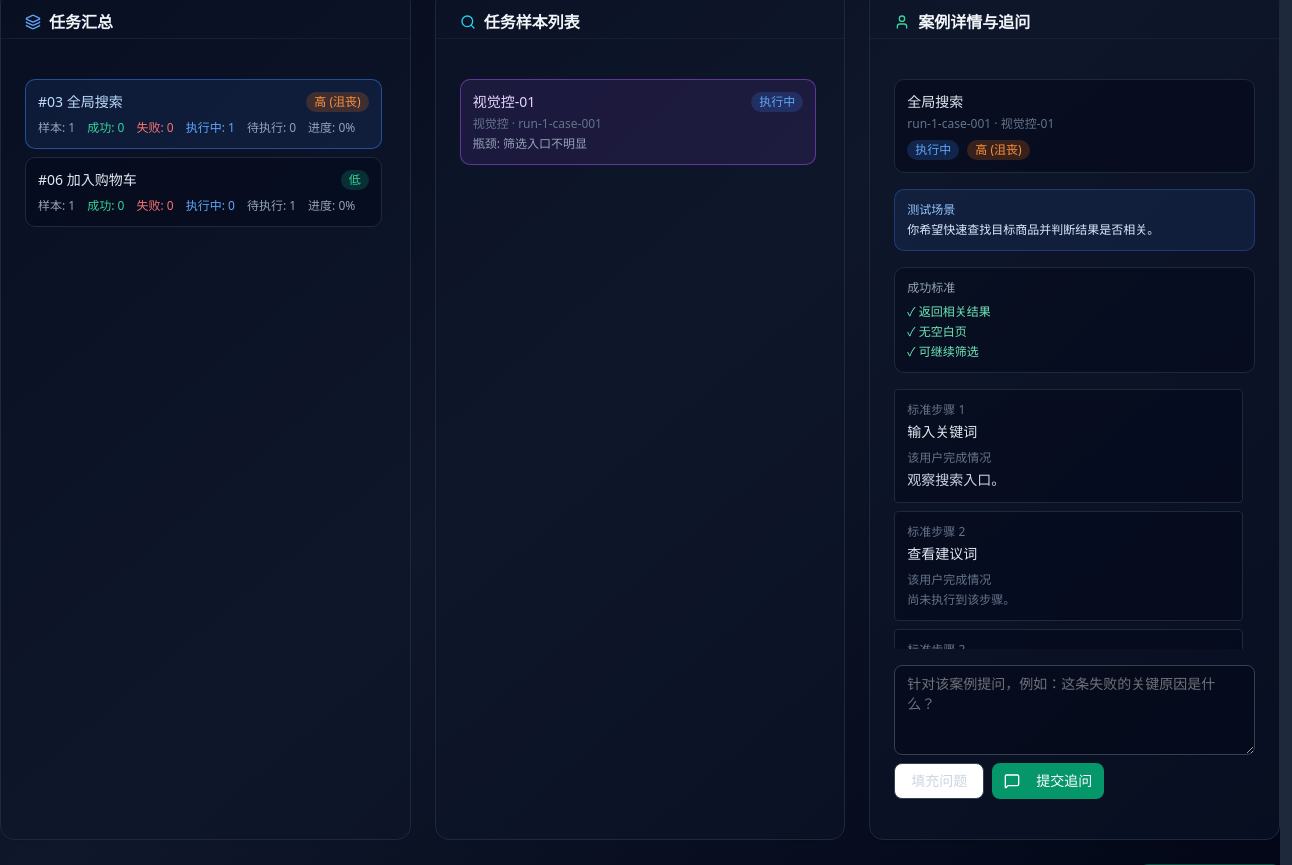
Test: ExecutionStep sequential playback › allows asking question during playback and blocks selecting unseen case
This screenshot has width=1292, height=865.
(page scrolled)
In the text box with placeholder "针对该案例提问，例如：这条失败的关键原因是什么？": coordinates (1075, 710) [894,665,1255,755], type "这条失败案例的直接原因是什么？"
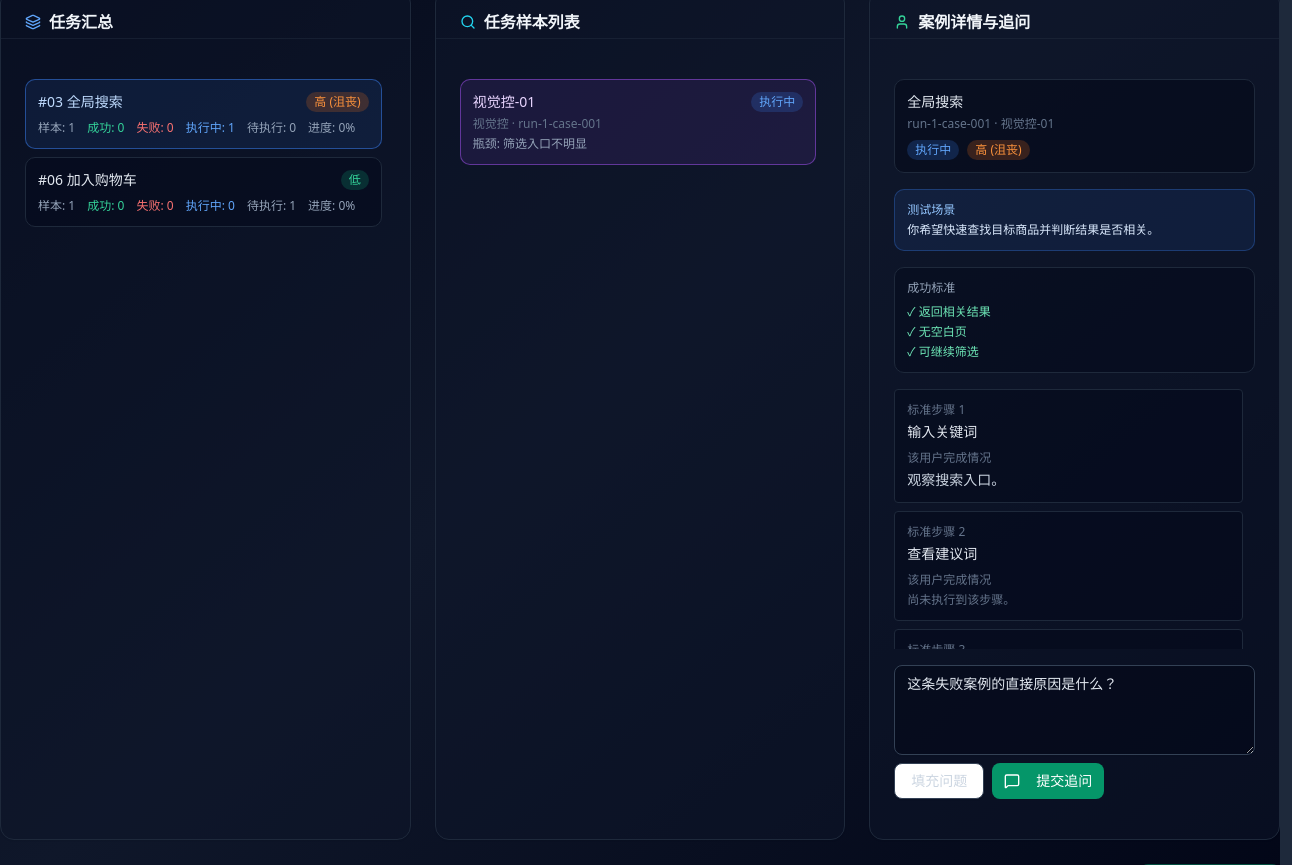
Click the button "提交追问": coordinates (1048, 781) [992,763,1104,799]
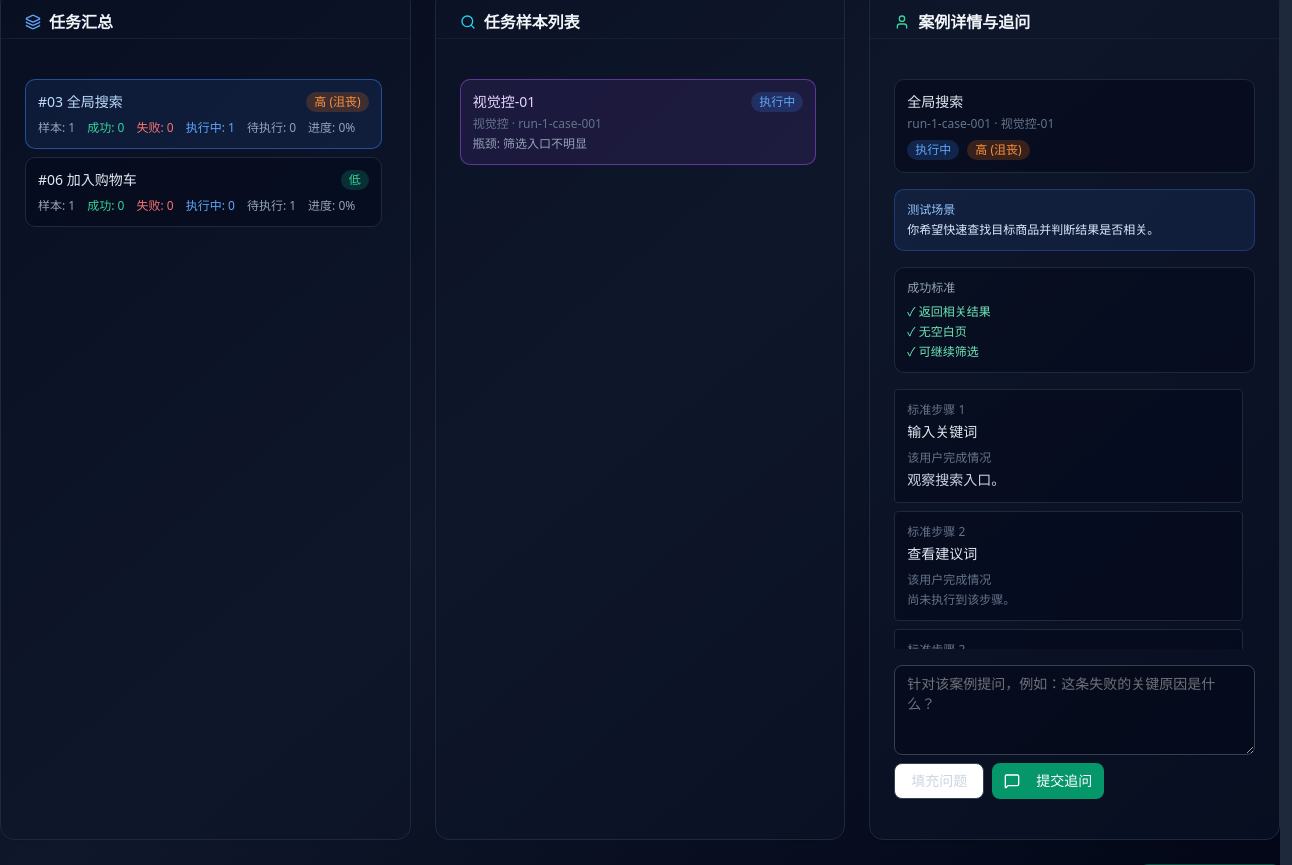
Click the button "#06 加入购物车 低 样本: 1 成功: 0 失败: 0 执行中: 0 待执行: 1 进度: 0%": coordinates (102, 180) [25,157,382,227]
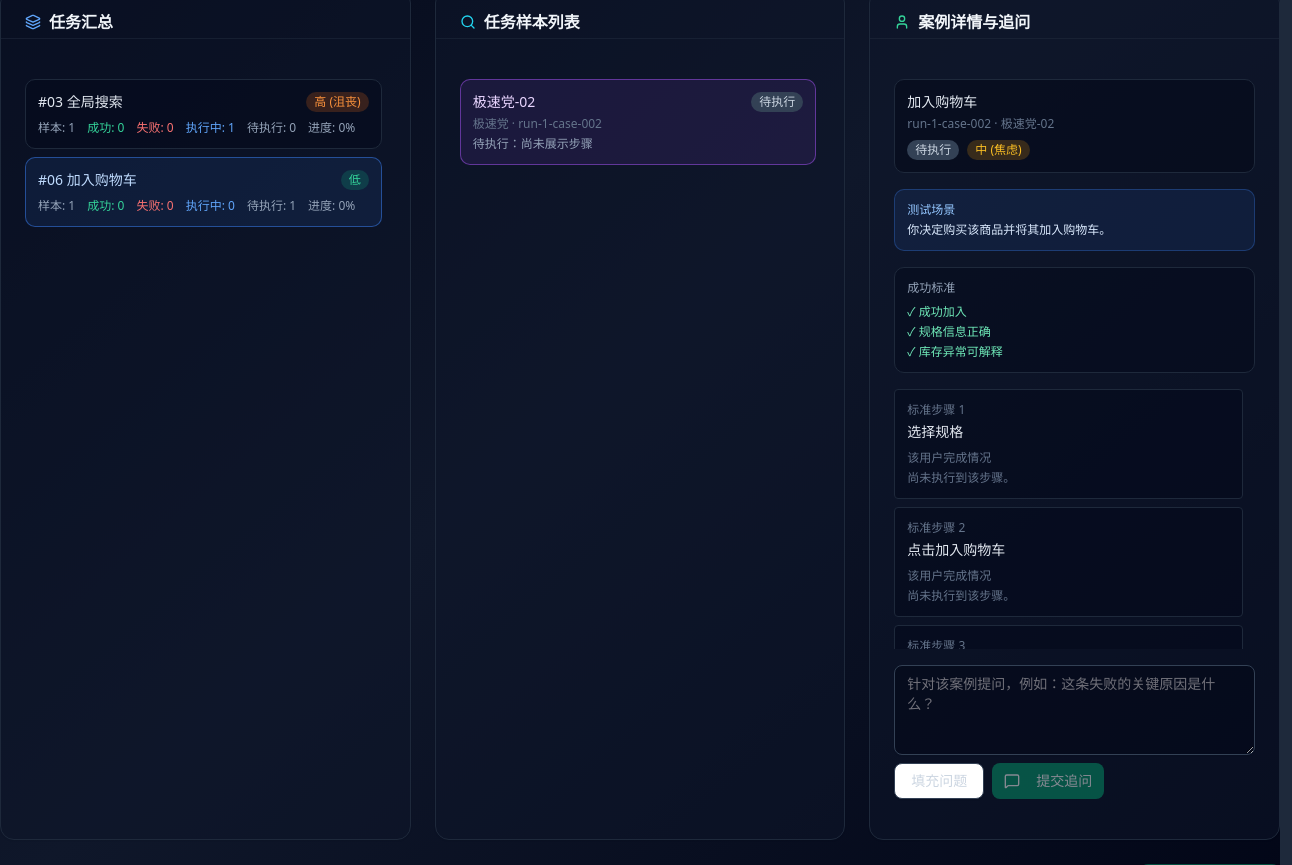
Click the button with aria-label "极速党-02-待执行": coordinates (504, 102) [460,79,816,165]
(page scrolled)
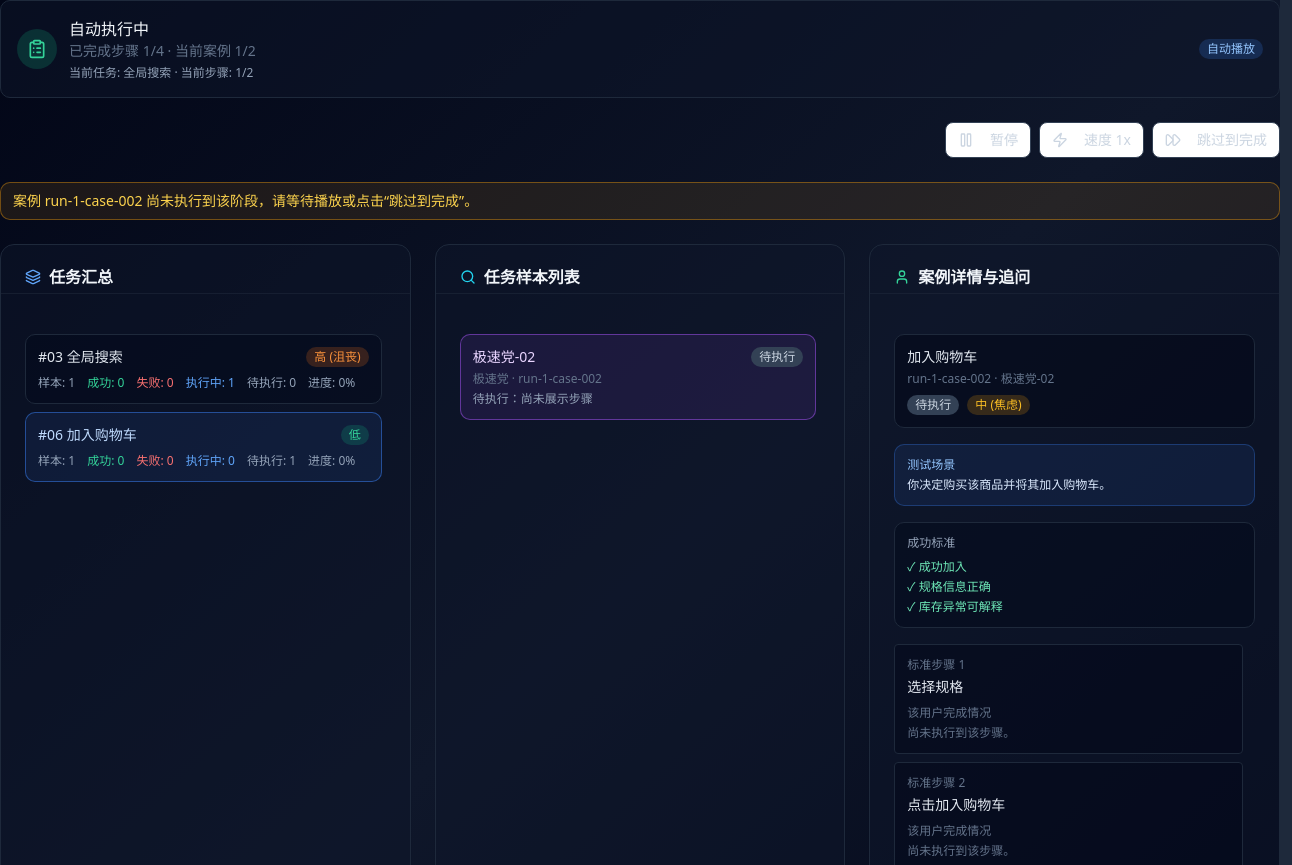
Result: the text "案例 run-1-case-002 尚未执行到该阶段，请等待播放或点击“跳过到完成”。" is shown at [0,182,1280,220]
